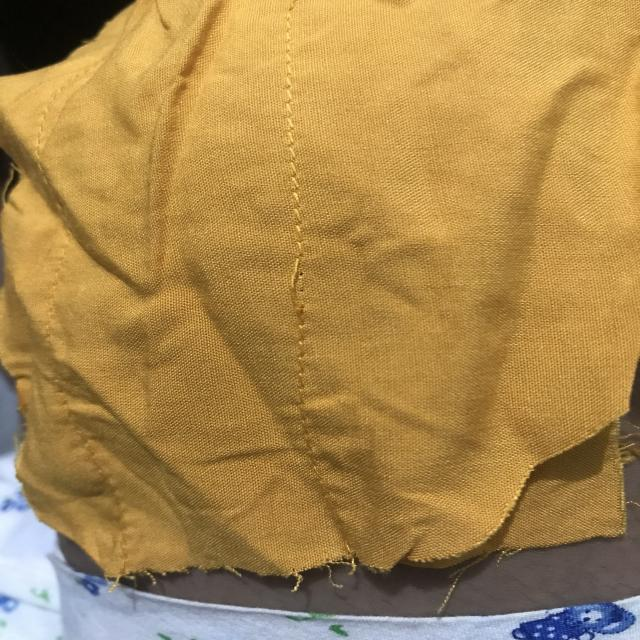broken: (280, 241, 324, 344)
good: (270, 116, 316, 202)
